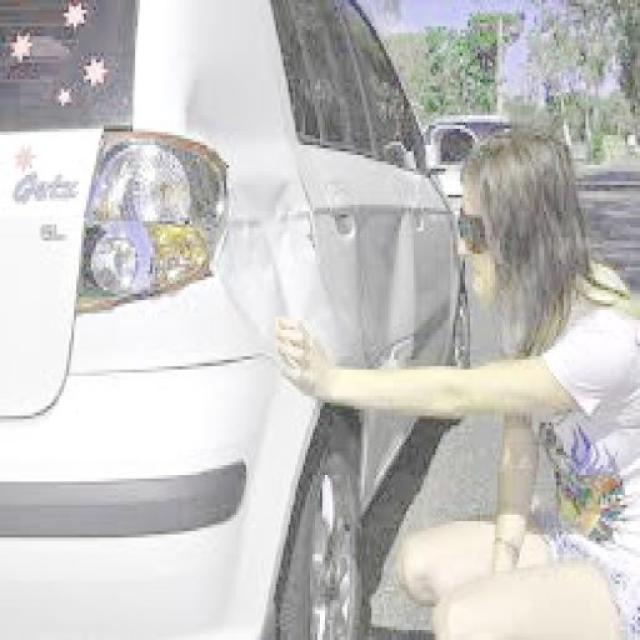car damage: (179, 82, 331, 341), (344, 190, 427, 369)
